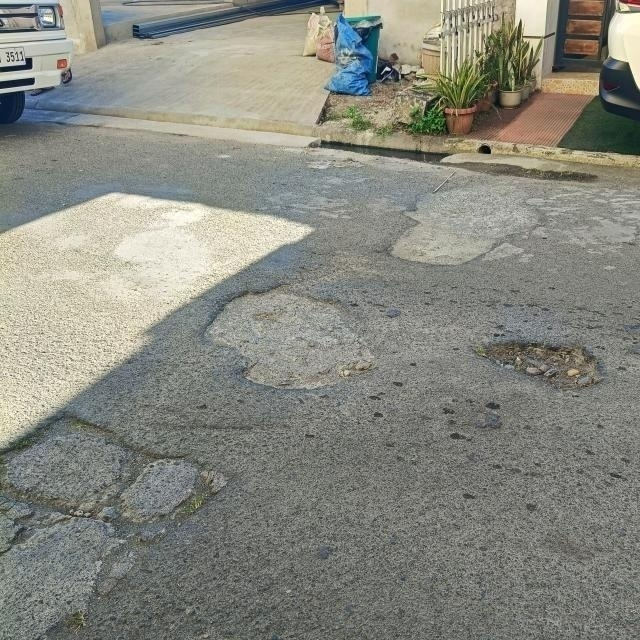pothole: (9, 406, 238, 632), (188, 276, 390, 410), (347, 166, 559, 293), (451, 320, 606, 420)
